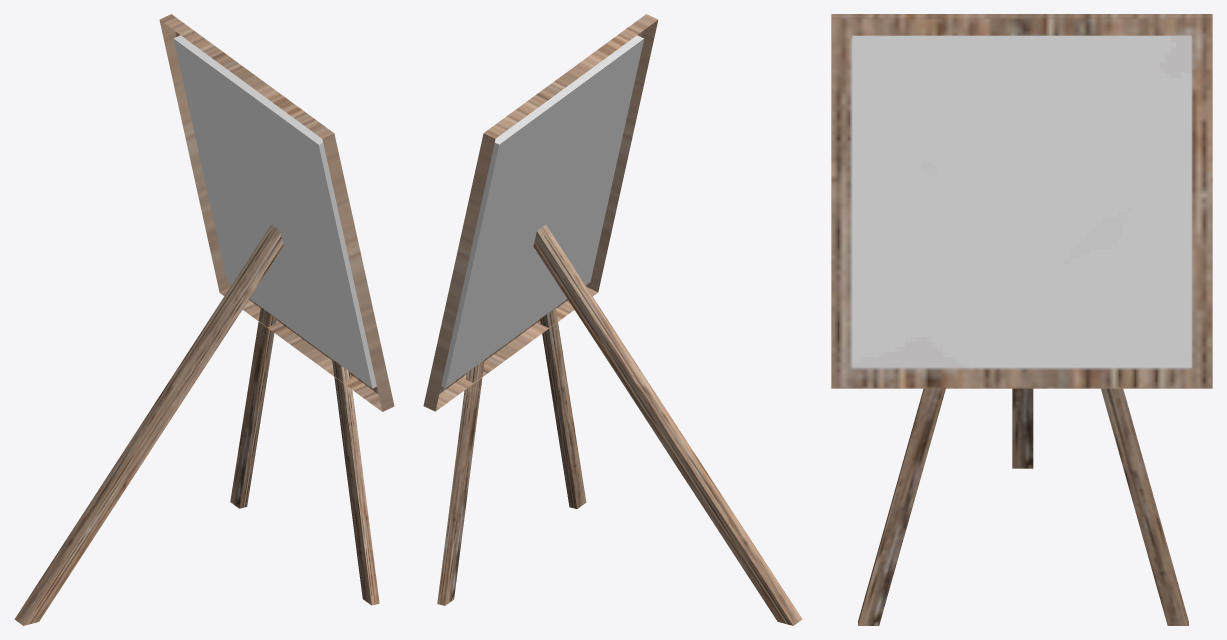
The model's file is FrameModel.fbx.
3 renders of one model, left to right at view 1: azimuth 30°, elevation 25°; view 2: azimuth 150°, elevation 25°; view 3: azimuth 270°, elevation 25°, orthographic. The views are drawn at different scales.
Parts seen in each view (by area): view 1: BackFrame, Woods, ContourFrame; view 2: BackFrame, Woods, ContourFrame; view 3: Frame, ContourFrame, Woods, BackFrame.
Part boxes in pixels (bbox=[...]): BackFrame: bbox=[173, 35, 376, 388]; Woods: bbox=[14, 224, 379, 625]; ContourFrame: bbox=[159, 14, 394, 411]; BackFrame: bbox=[441, 35, 644, 387]; Woods: bbox=[437, 224, 802, 625]; ContourFrame: bbox=[423, 14, 658, 411]; Frame: bbox=[852, 36, 1191, 367]; ContourFrame: bbox=[831, 14, 1212, 388]; Woods: bbox=[858, 388, 1188, 625]; BackFrame: bbox=[852, 35, 1191, 36].
Size of the model in its own units: 74.79 by 120 by 71.88.
